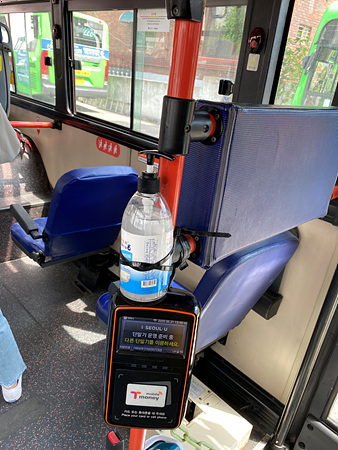terminal: (106, 302, 190, 428)
